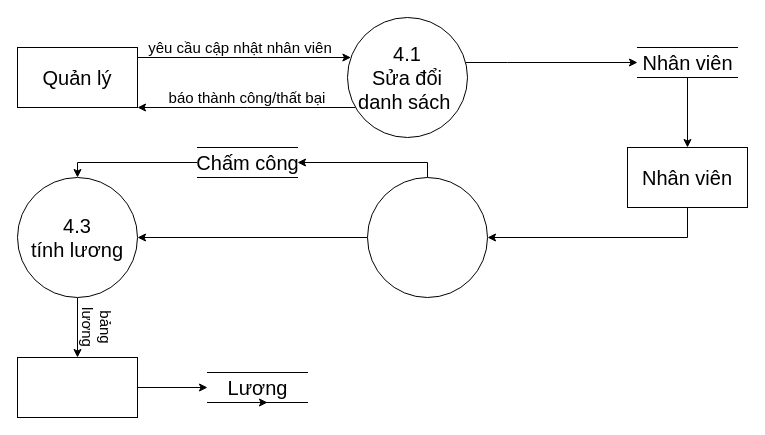
The diagram is 765 pixels wide and 435 high, and some of its shapes have lost their labels. The centre of each missing label's shape, as x and y in pixels:
4.2 chấm công: (x=427, y=237)
Kế toán: (x=77, y=387)
